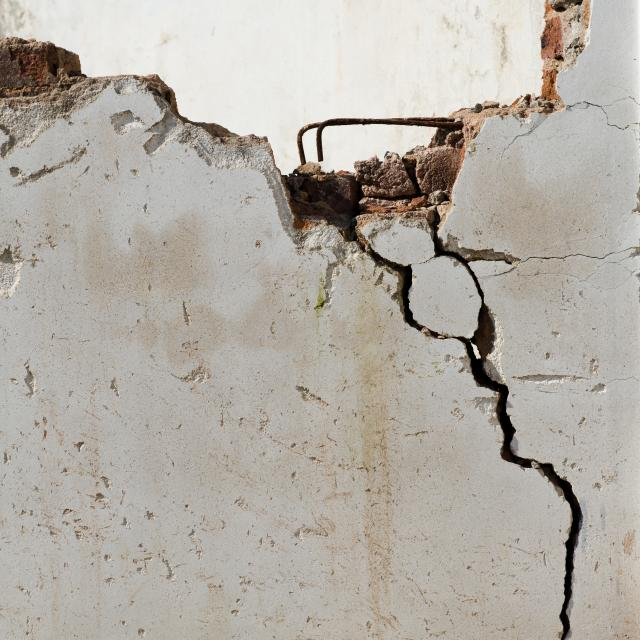Wall_Cracks: (2, 1, 630, 640)
